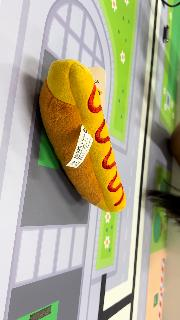hotdog: (39, 58, 127, 214)
